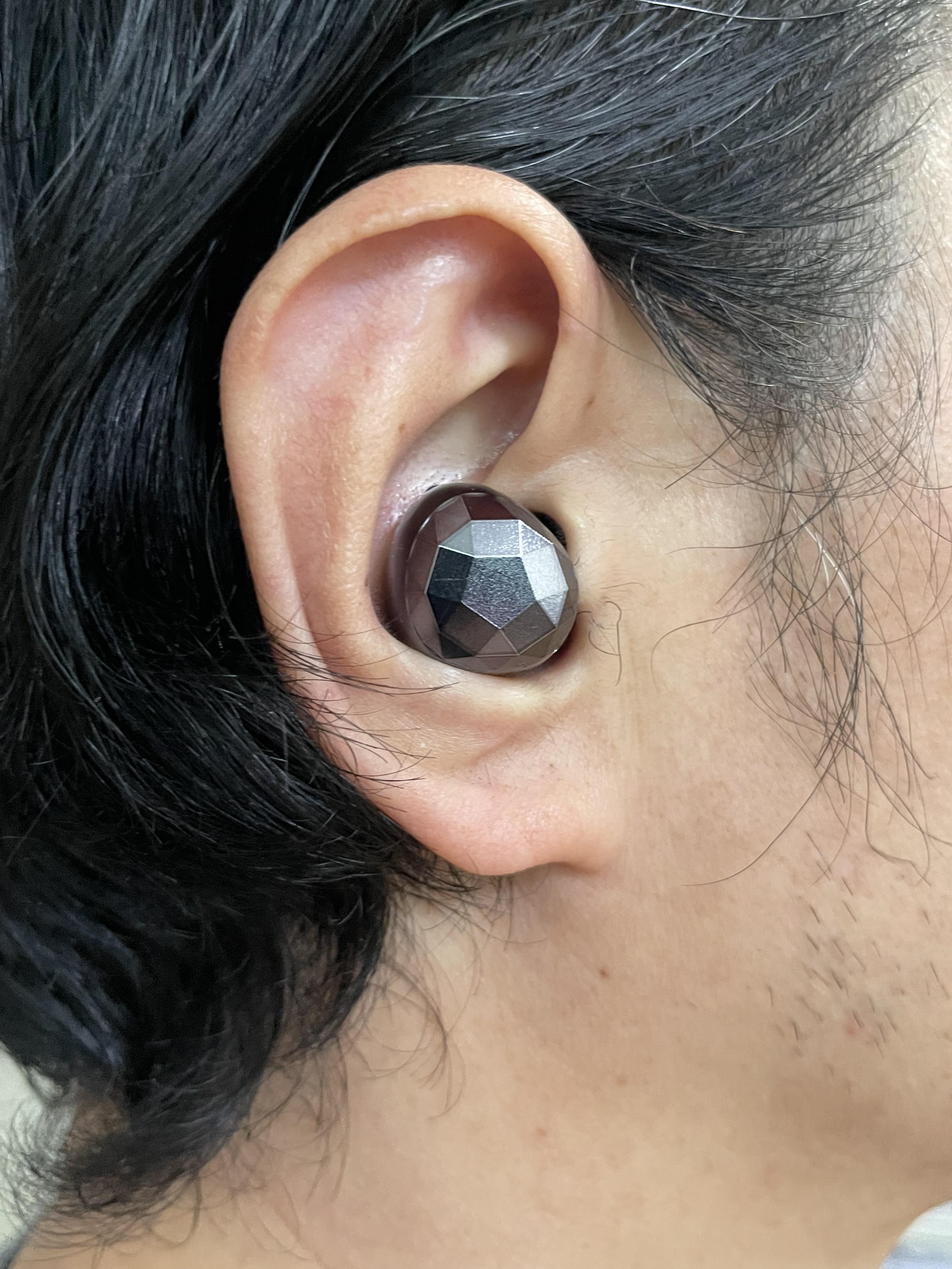earphone: (319, 475, 621, 693)
